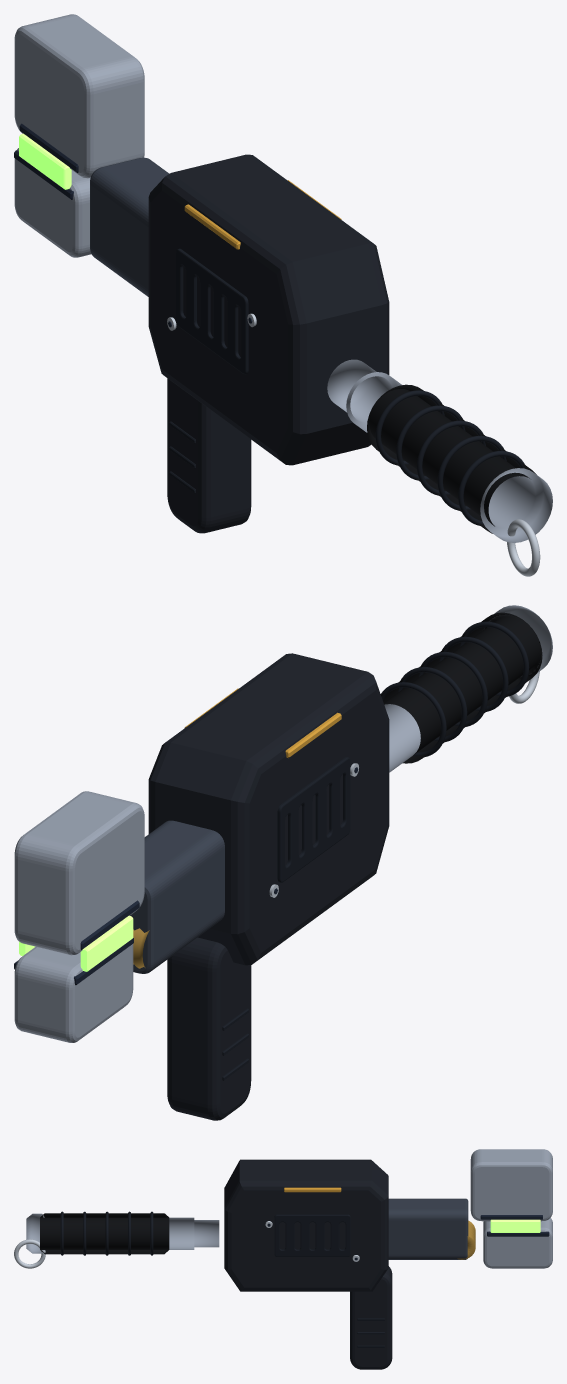
File: weapon_wrench_vm.glb
3 views of the same model, one above another, from view 1: azimuth 30°, elevation 25°; view 2: azimuth 150°, elevation 25°; view 3: azimuth 270°, elevation 25° (orthographic). The views are drawn at different scales.
Visible parts, largest first — view 1: wrench_housing, wrench_jaw_fixed, wrench_foregrip, wrench_handle_grip, wrench_neck, wrench_handle, wrench_vents-1, wrench_jaw_moving, wrench_jaw_glow-1, wrench_lanyard, wrench_grip_ring1, wrench_grip_ring0 (+3 smaller); view 2: wrench_housing, wrench_jaw_fixed, wrench_foregrip, wrench_neck, wrench_handle_grip, wrench_jaw_moving, wrench_vents-1, wrench_handle, wrench_jaw_glow-1, wrench_grip_ring0, wrench_grip_ring4, wrench_grip_ring1 (+3 smaller); view 3: wrench_housing, wrench_jaw_fixed, wrench_neck, wrench_handle_grip, wrench_foregrip, wrench_vents1, wrench_jaw_moving, wrench_handle, wrench_jaw_glow1, wrench_lanyard, wrench_hazard_band, wrench_jaw_face_a (+1 smaller).
Boxes of the visible parts, x1=… form: wrench_housing: x1=148, y1=154, x2=389, y2=465; wrench_jaw_fixed: x1=14, y1=14, x2=144, y2=178; wrench_foregrip: x1=167, y1=378, x2=251, y2=533; wrench_handle_grip: x1=367, y1=384, x2=536, y2=533; wrench_neck: x1=90, y1=157, x2=169, y2=296; wrench_handle: x1=327, y1=359, x2=552, y2=542; wrench_vents-1: x1=176, y1=248, x2=248, y2=374; wrench_jaw_moving: x1=14, y1=148, x2=91, y2=257; wrench_jaw_glow-1: x1=19, y1=133, x2=71, y2=189; wrench_lanyard: x1=507, y1=519, x2=540, y2=576; wrench_grip_ring1: x1=396, y1=405, x2=465, y2=480; wrench_grip_ring0: x1=375, y1=390, x2=444, y2=465; wrench_housing: x1=148, y1=653, x2=389, y2=965; wrench_jaw_fixed: x1=14, y1=791, x2=144, y2=955; wrench_foregrip: x1=167, y1=937, x2=251, y2=1120; wrench_neck: x1=130, y1=820, x2=224, y2=973; wrench_handle_grip: x1=381, y1=612, x2=542, y2=763; wrench_jaw_moving: x1=14, y1=944, x2=133, y2=1042; wrench_vents-1: x1=277, y1=757, x2=350, y2=882; wrench_handle: x1=384, y1=605, x2=552, y2=772; wrench_jaw_glow-1: x1=80, y1=915, x2=133, y2=971; wrench_grip_ring0: x1=380, y1=682, x2=446, y2=757; wrench_grip_ring4: x1=460, y1=621, x2=529, y2=696; wrench_grip_ring1: x1=398, y1=667, x2=467, y2=741; wrench_housing: x1=224, y1=1159, x2=388, y2=1291; wrench_jaw_fixed: x1=470, y1=1149, x2=552, y2=1221; wrench_neck: x1=388, y1=1198, x2=468, y2=1259; wrench_handle_grip: x1=40, y1=1213, x2=169, y2=1254; wrench_foregrip: x1=350, y1=1266, x2=392, y2=1369; wrench_vents1: x1=274, y1=1214, x2=350, y2=1256; wrench_jaw_moving: x1=483, y1=1217, x2=552, y2=1268; wrench_handle: x1=26, y1=1213, x2=219, y2=1253; wrench_jaw_glow1: x1=490, y1=1219, x2=540, y2=1232; wrench_lanyard: x1=14, y1=1239, x2=45, y2=1268; wrench_hazard_band: x1=284, y1=1187, x2=341, y2=1192; wrench_jaw_face_a: x1=480, y1=1215, x2=542, y2=1219.
Bounding box in the file's own units: 0.0538 × 0.185 × 0.4328.
